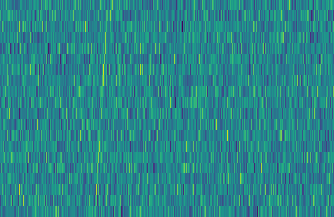signal: (89, 0, 111, 217)
